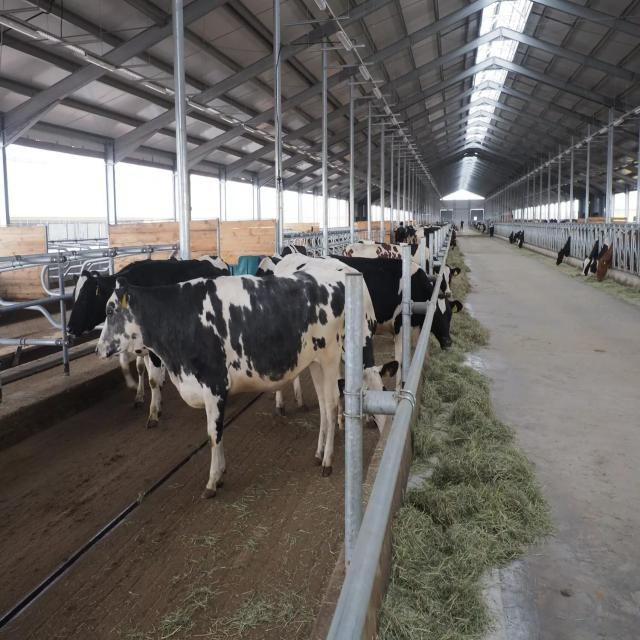cow: (94, 262, 377, 498), (65, 254, 231, 427), (361, 252, 463, 356), (596, 242, 613, 282), (582, 240, 600, 276), (556, 235, 570, 265), (508, 229, 524, 247)
